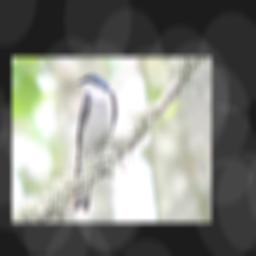Swallow: (70, 73, 119, 214)
